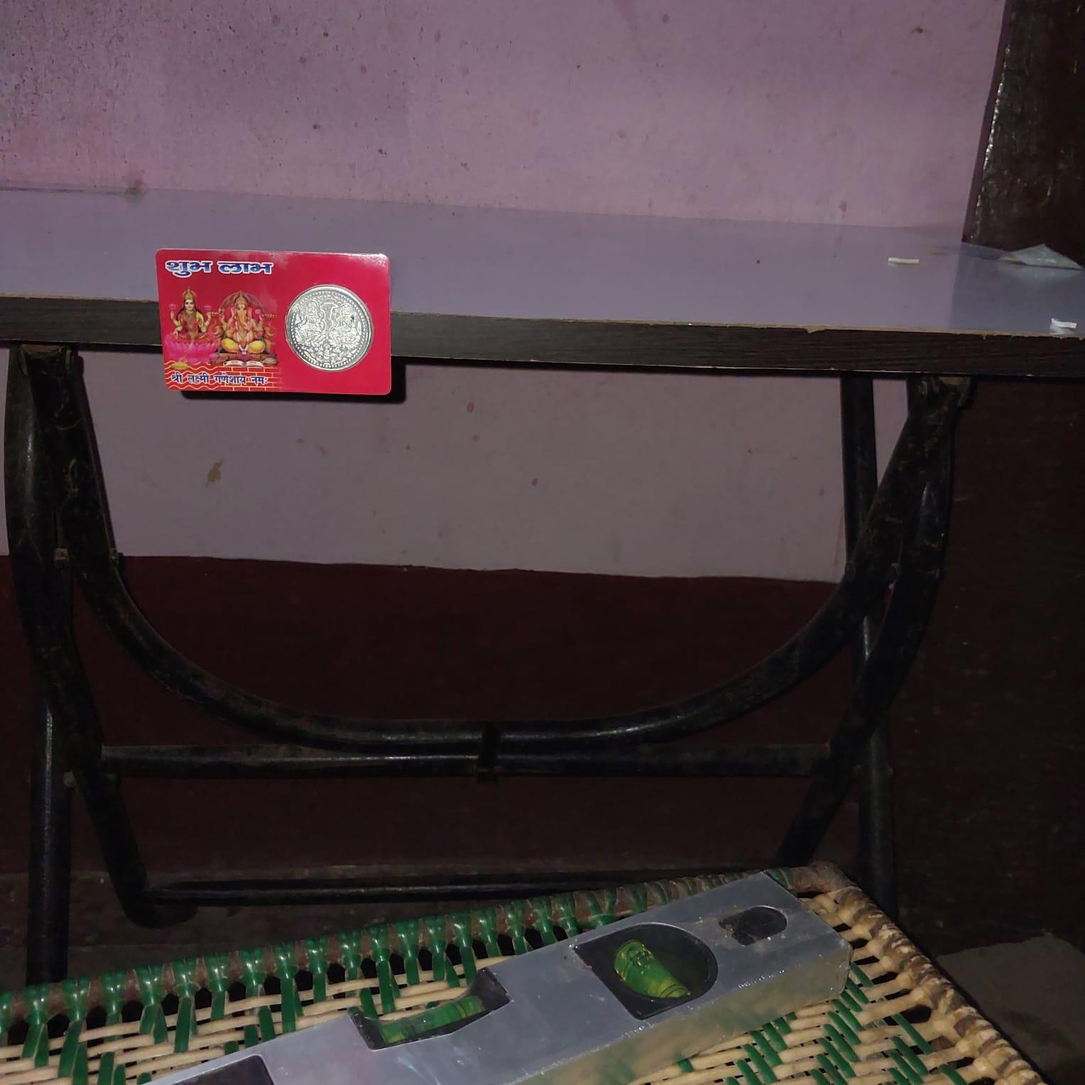blessing_card: (156, 238, 419, 408)
